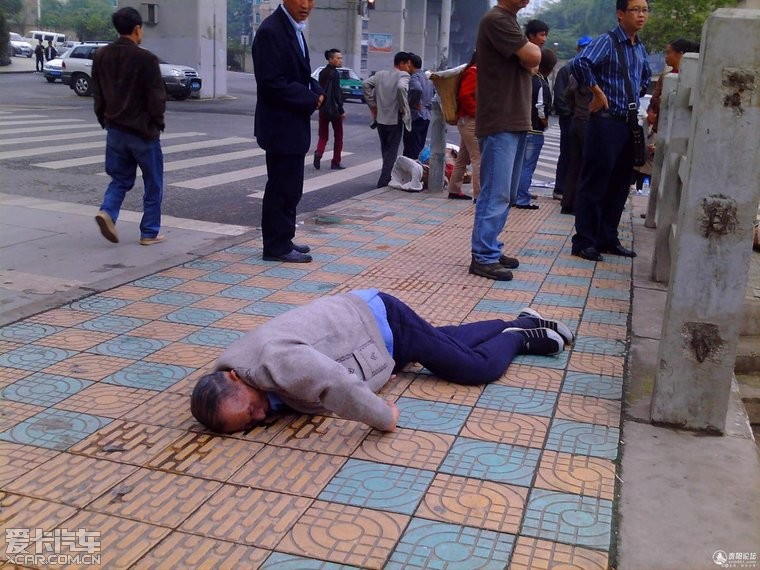10+: (4, 1, 721, 442)
down: (181, 260, 605, 453)
